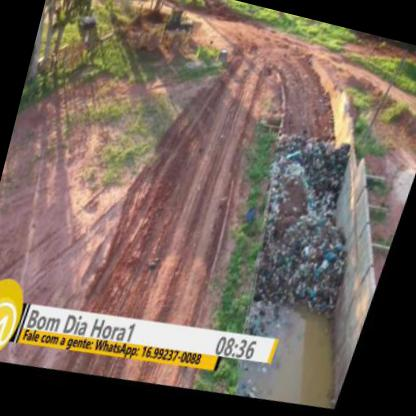agua: (278, 322, 337, 414)
lixo: (241, 128, 373, 328)
